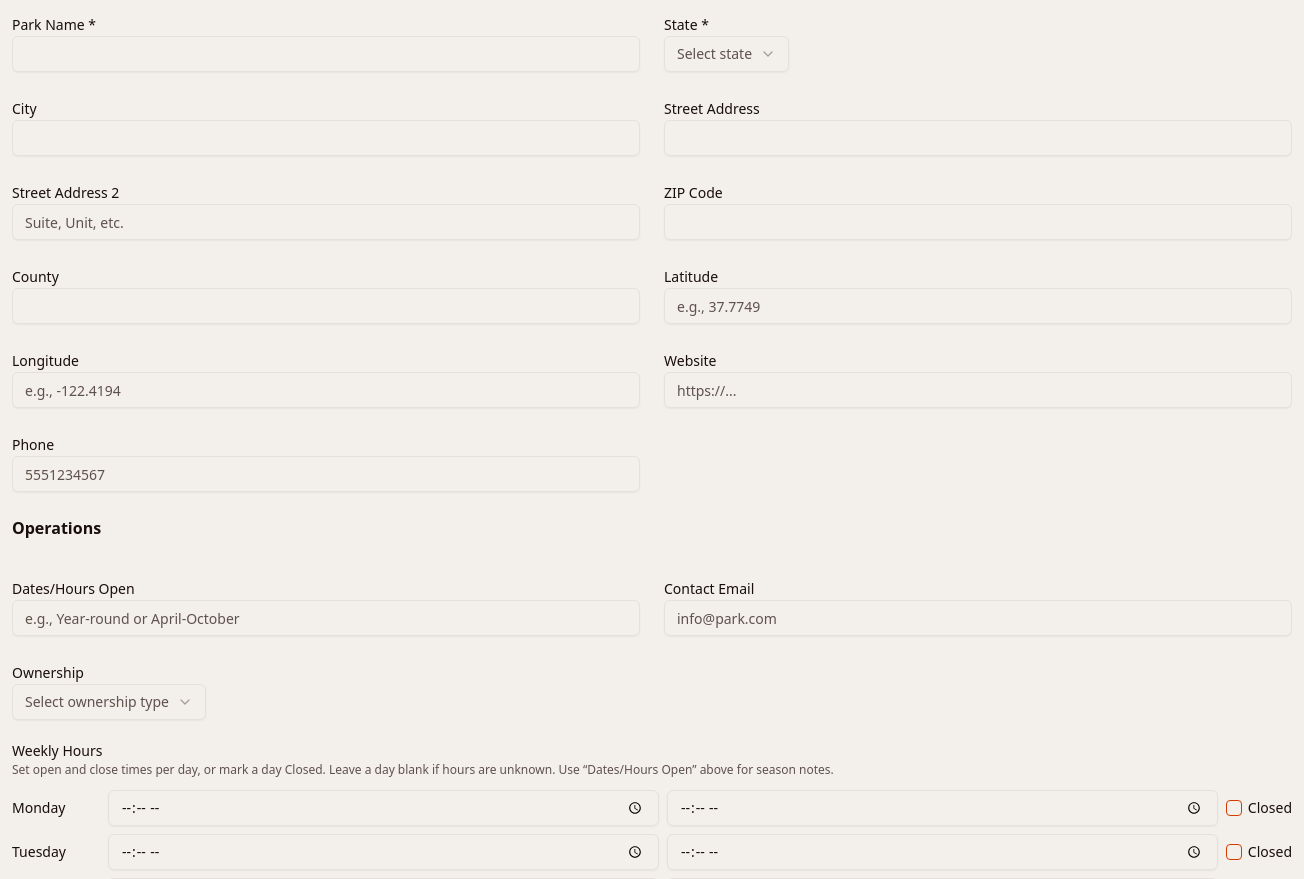
ParkSubmissionForm › should sanitize phone number input to only digits
Type "(555) 123-4567" into the field labelled "Phone" at (326, 474), box [12,456,640,492]
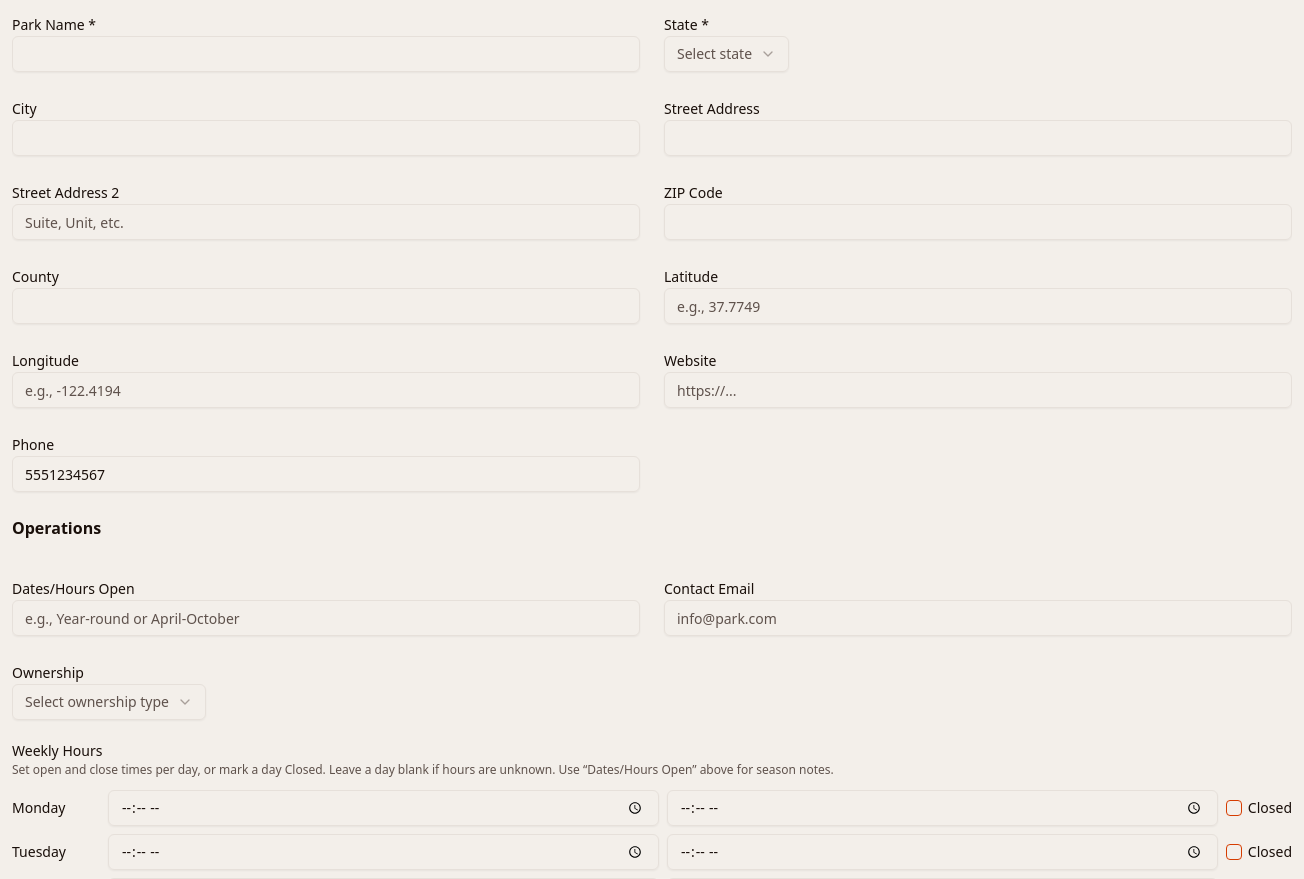
Result: the field labelled "Phone" holds "5551234567" at [12,456,640,492]
